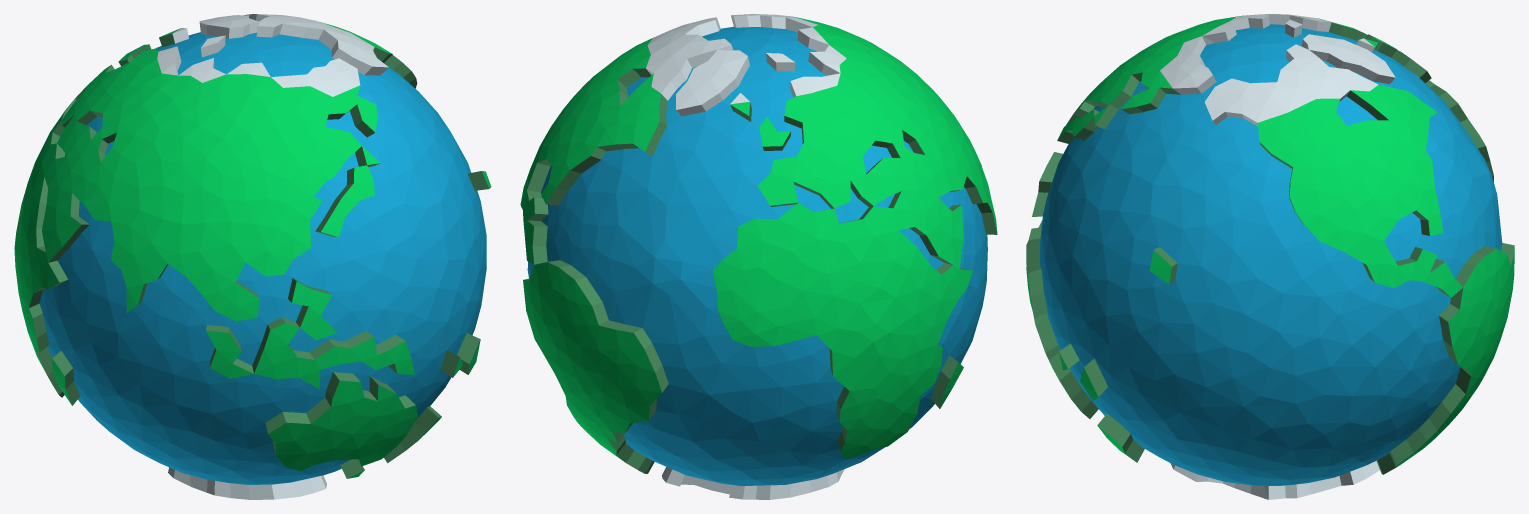
File: Earth.gltf
The picture shows the model from 3 angles, left to right: view 1: azimuth 30°, elevation 25°; view 2: azimuth 150°, elevation 25°; view 3: azimuth 270°, elevation 25°; orthographic projection.
Parts seen in each view (by area): view 1: Sphere; view 2: Sphere; view 3: Sphere.
Part boxes in pixels (<box>): Sphere: <box>14,14,491,499</box>; Sphere: <box>520,14,997,499</box>; Sphere: <box>1026,14,1514,499</box>.
Bounding box in the file's own units: 2.04 × 2.11 × 2.11.
